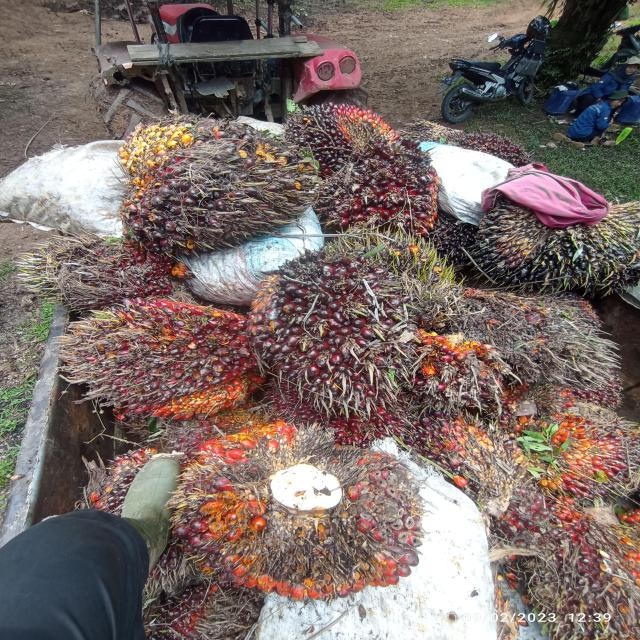fraksi 00: (124, 103, 309, 244), (466, 193, 640, 289), (286, 96, 406, 158)
fraksi 1: (269, 253, 438, 409), (504, 501, 621, 619), (316, 158, 463, 245)
fraksi 3: (168, 432, 452, 626), (541, 388, 640, 509)
fraksi 4: (18, 299, 270, 418), (418, 330, 523, 406)
